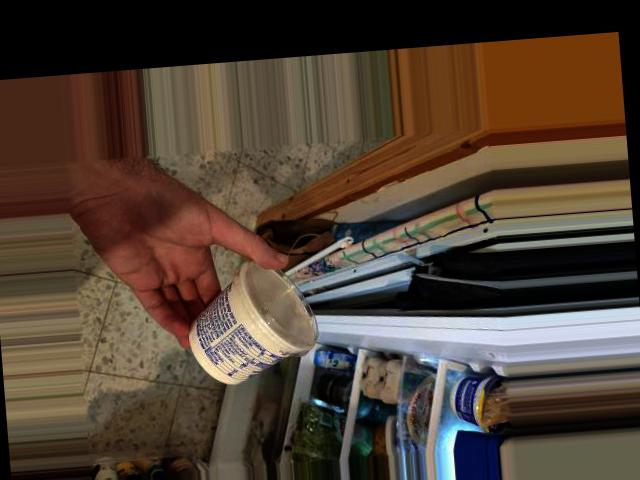cotage: (197, 264, 321, 382)
